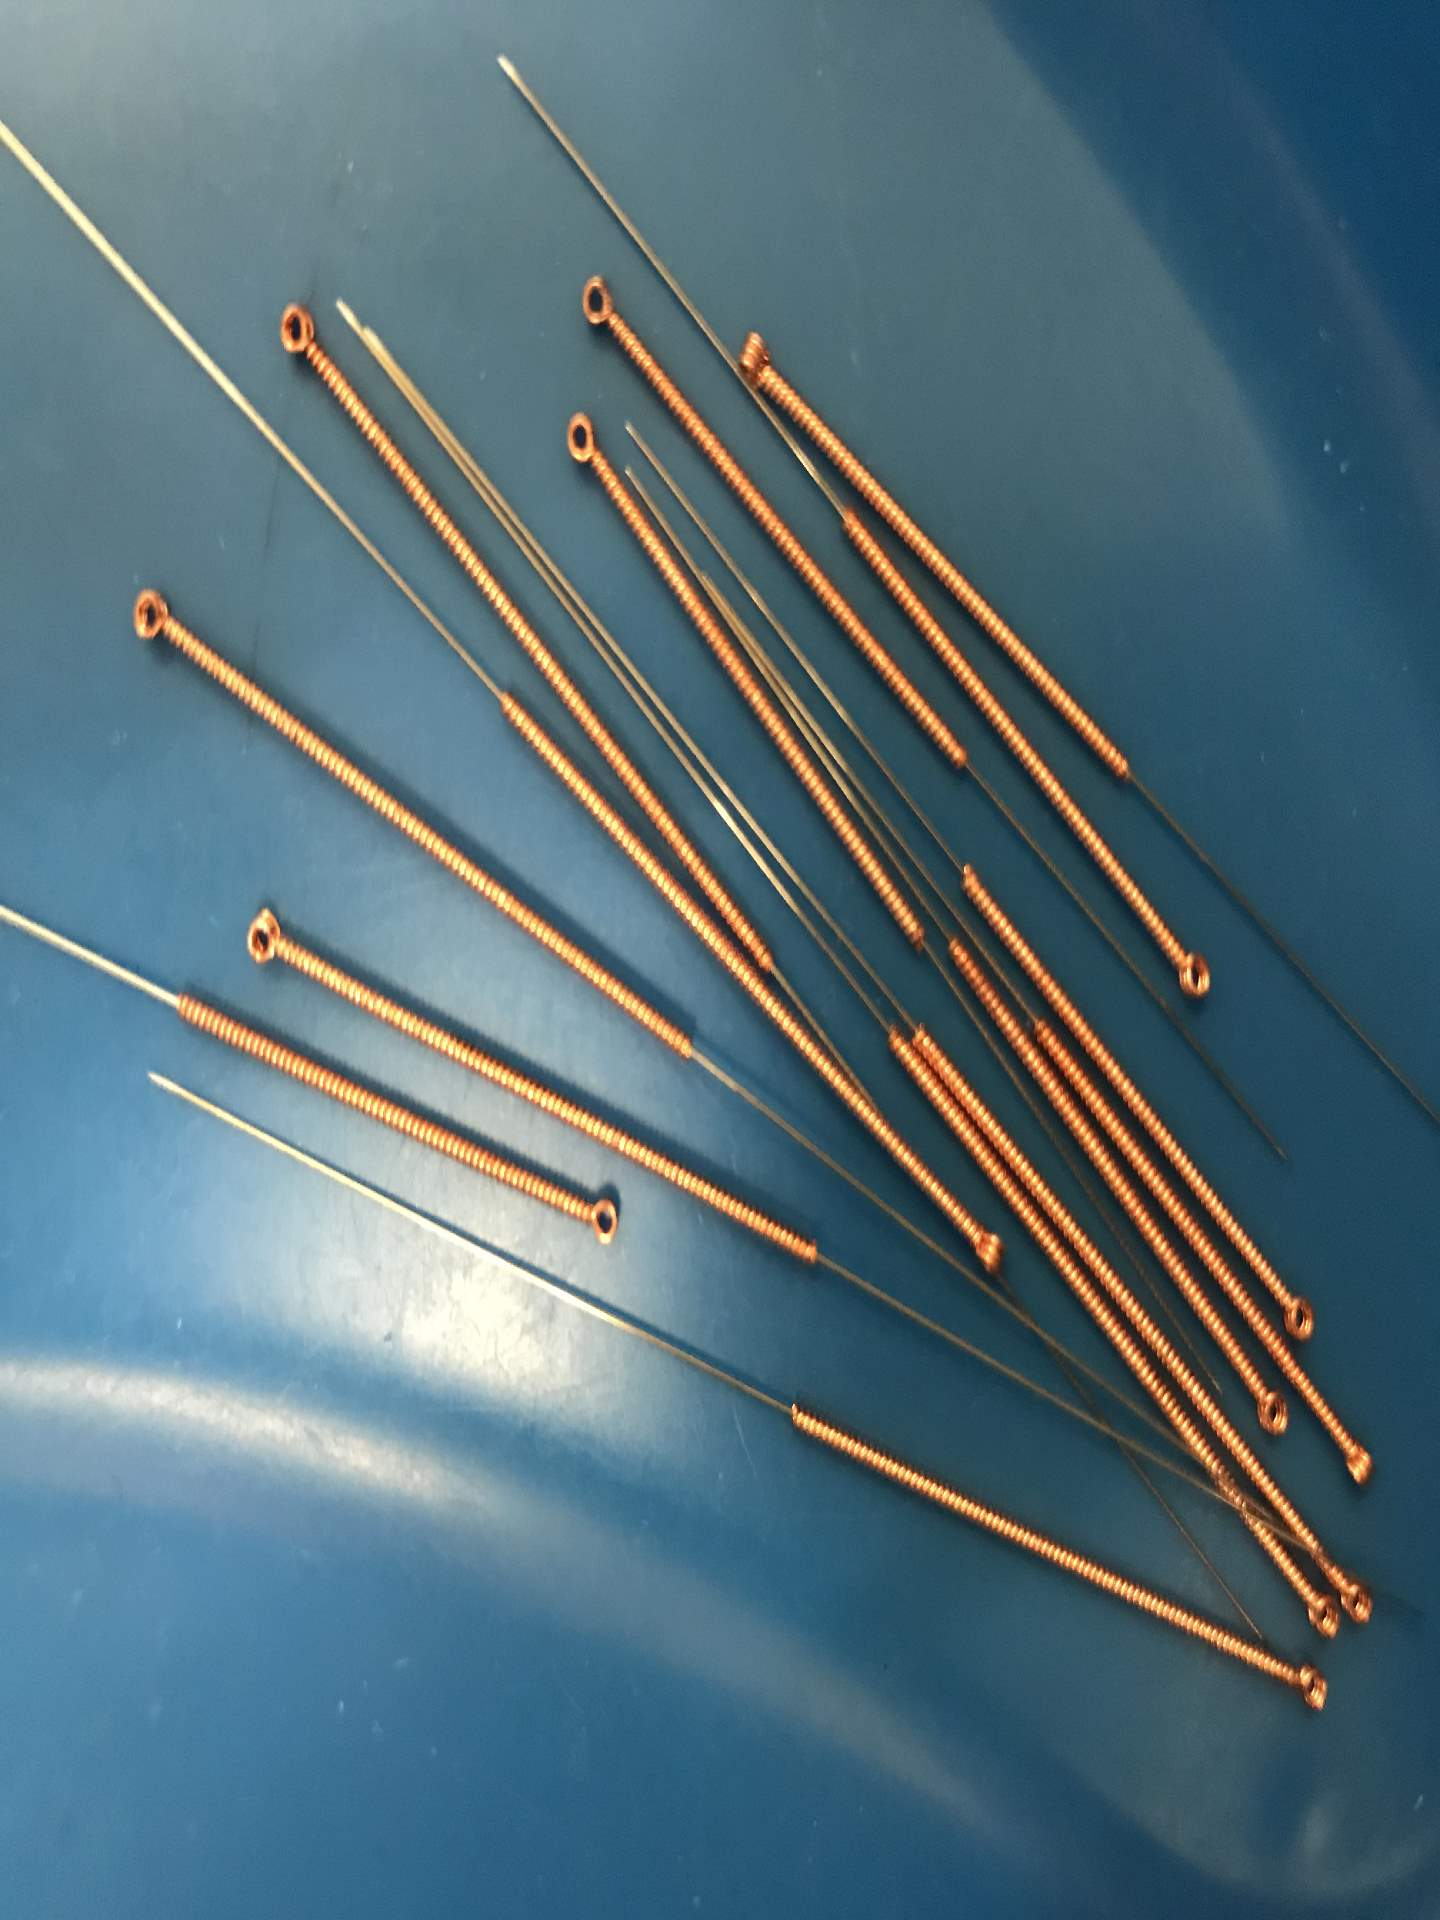needle: (262, 277, 336, 382), (1316, 1407, 1395, 1503), (112, 571, 192, 664), (227, 893, 307, 983), (1157, 921, 1227, 1017), (563, 259, 637, 348), (542, 395, 614, 481), (722, 317, 793, 404), (561, 1173, 632, 1253), (1268, 1652, 1342, 1719), (948, 1219, 1016, 1287), (1280, 1575, 1343, 1648), (1234, 1373, 1296, 1444), (1331, 1557, 1384, 1636), (1274, 1279, 1327, 1349)
